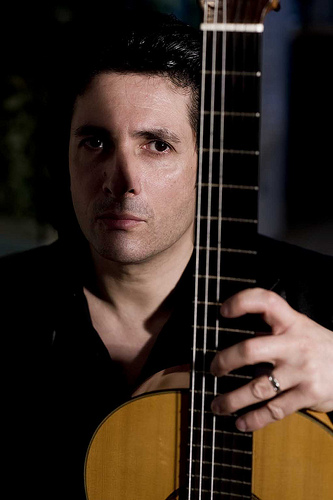guitar: (77, 1, 333, 500)
